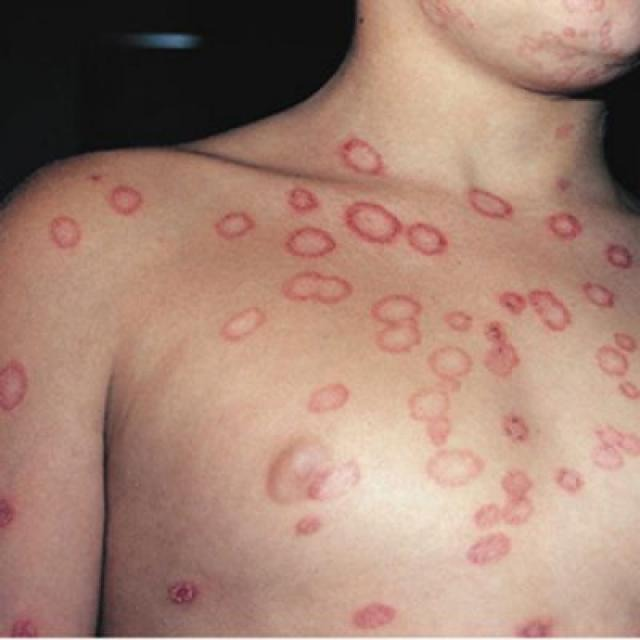Ringworm: (363, 275, 427, 362), (420, 442, 498, 495), (278, 260, 357, 307), (340, 190, 405, 247), (407, 378, 455, 453), (333, 122, 387, 183), (590, 410, 640, 475), (528, 280, 583, 338), (275, 218, 340, 267), (213, 293, 268, 350), (203, 198, 262, 250), (340, 593, 400, 640), (0, 355, 42, 420), (463, 175, 517, 223), (462, 528, 523, 570), (157, 567, 207, 618), (42, 207, 90, 260), (427, 337, 477, 387), (100, 175, 150, 222), (403, 215, 448, 263), (302, 373, 350, 415), (285, 175, 327, 222), (435, 303, 485, 342), (593, 333, 627, 385), (543, 207, 583, 250), (598, 237, 638, 280), (498, 460, 538, 502), (287, 505, 327, 543), (552, 462, 597, 495), (495, 410, 535, 447), (582, 277, 623, 313), (470, 502, 505, 542), (502, 492, 537, 530), (495, 283, 530, 318), (593, 420, 633, 447), (608, 325, 640, 357), (618, 372, 640, 408)
